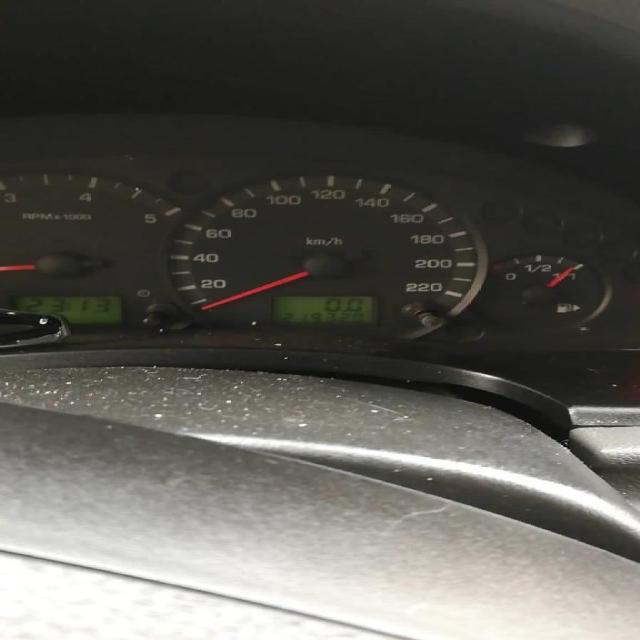odometer: (266, 292, 376, 327)
